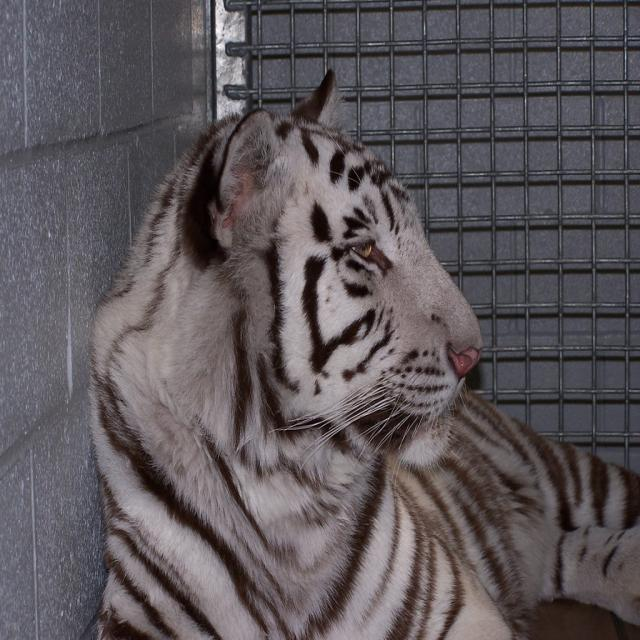Tiger: (90, 69, 640, 639)
